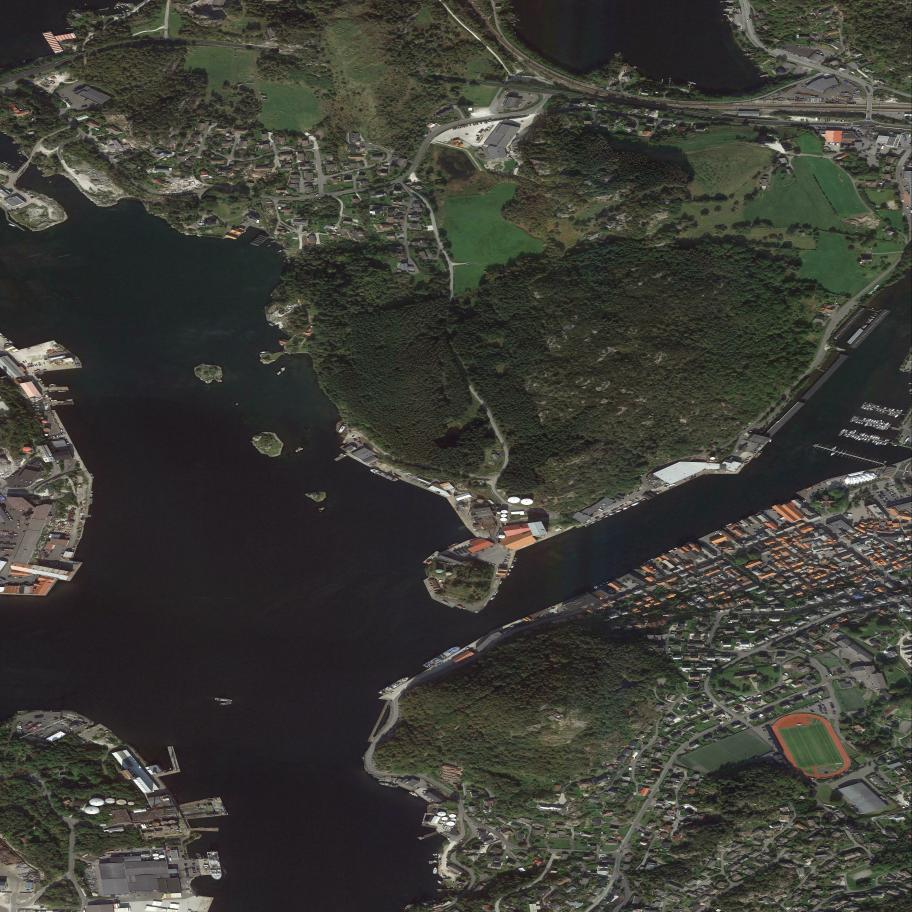large-vehicle: (510, 625, 515, 628), (598, 509, 603, 512), (829, 524, 833, 527), (738, 602, 742, 605), (466, 647, 469, 650), (749, 16, 751, 19)
ship: (423, 644, 462, 670), (378, 675, 411, 697), (207, 849, 223, 882), (369, 468, 398, 483), (379, 781, 399, 789), (753, 449, 763, 460), (408, 790, 420, 799), (338, 423, 347, 434), (447, 541, 459, 549), (215, 698, 232, 702), (219, 701, 232, 706), (630, 501, 640, 507), (622, 505, 631, 511), (437, 879, 444, 886), (490, 595, 496, 602), (608, 512, 616, 517), (831, 445, 837, 451), (830, 451, 836, 457), (884, 421, 890, 427), (898, 408, 904, 414), (8, 340, 15, 345), (596, 517, 603, 522), (8, 223, 16, 227), (436, 889, 451, 891), (880, 420, 885, 426), (878, 419, 883, 425), (879, 425, 884, 431), (876, 424, 881, 430), (864, 421, 869, 427), (872, 434, 877, 440), (894, 413, 899, 419), (875, 441, 880, 447), (842, 428, 847, 434), (838, 431, 843, 437), (855, 435, 860, 441), (852, 429, 857, 435), (869, 433, 874, 439), (615, 509, 622, 513), (725, 523, 732, 527), (32, 397, 41, 400), (867, 407, 872, 412), (861, 432, 866, 437), (874, 424, 879, 429), (875, 419, 880, 424), (849, 429, 854, 434), (887, 411, 892, 416), (674, 546, 680, 550), (668, 549, 674, 553), (590, 521, 596, 525), (584, 523, 590, 527), (603, 515, 609, 519), (640, 498, 646, 502), (30, 405, 42, 407), (433, 868, 437, 874), (276, 249, 282, 253), (863, 437, 867, 443), (4, 343, 9, 347), (4, 337, 9, 341), (513, 557, 517, 562), (598, 583, 603, 587), (868, 418, 872, 423), (875, 435, 879, 440), (882, 426, 886, 431), (873, 419, 877, 424), (861, 436, 865, 441), (890, 412, 894, 417), (878, 441, 882, 446), (866, 438, 870, 443), (880, 410, 884, 415), (858, 436, 862, 441), (846, 433, 850, 438), (260, 351, 269, 353), (891, 444, 897, 447), (695, 543, 699, 547), (647, 559, 651, 563), (66, 27, 74, 29), (723, 527, 727, 531), (58, 390, 66, 392), (49, 385, 57, 387), (33, 399, 41, 401), (871, 439, 875, 443), (849, 434, 853, 438), (878, 409, 882, 413), (877, 436, 881, 440), (865, 418, 869, 422), (867, 423, 871, 427), (870, 419, 874, 423), (891, 408, 895, 412), (851, 435, 855, 439), (686, 542, 691, 545), (279, 343, 284, 346), (101, 14, 106, 17), (575, 526, 582, 528), (37, 372, 44, 374), (66, 399, 73, 401), (36, 401, 42, 403), (496, 590, 499, 594), (606, 581, 610, 584), (633, 568, 637, 571), (642, 562, 646, 565), (661, 553, 665, 556), (339, 453, 343, 456), (243, 230, 247, 233), (1, 335, 5, 338), (54, 362, 57, 366), (235, 403, 239, 406), (635, 498, 639, 501), (636, 497, 640, 500), (511, 564, 514, 568), (758, 509, 762, 512), (602, 581, 605, 585), (593, 587, 597, 590), (44, 404, 47, 408), (33, 409, 39, 411), (121, 5, 124, 9), (118, 13, 122, 16), (49, 396, 52, 400), (499, 580, 502, 584), (867, 434, 870, 438), (884, 442, 887, 446), (874, 440, 877, 444), (844, 433, 847, 437), (885, 438, 888, 442), (889, 407, 892, 411), (863, 406, 866, 410), (863, 417, 866, 421), (867, 402, 870, 406), (834, 337, 838, 340), (862, 325, 866, 328), (893, 413, 896, 417), (845, 429, 848, 433), (869, 403, 872, 407), (884, 406, 887, 410), (769, 439, 772, 443), (693, 82, 697, 85), (851, 419, 854, 423), (885, 427, 888, 431), (872, 424, 875, 428), (854, 435, 857, 439), (38, 373, 44, 375), (69, 24, 74, 26), (30, 403, 35, 405), (102, 16, 107, 18), (870, 316, 875, 318), (866, 322, 871, 324), (650, 558, 653, 561), (50, 361, 53, 364), (632, 500, 635, 503), (507, 573, 510, 576), (596, 585, 599, 588), (494, 593, 497, 596), (394, 468, 397, 471), (3, 161, 6, 164), (5, 162, 8, 165), (169, 767, 172, 770), (90, 473, 93, 476), (32, 401, 35, 404), (124, 4, 127, 7), (23, 60, 26, 63), (34, 375, 37, 378), (40, 380, 43, 383), (876, 409, 879, 412), (856, 416, 859, 419), (887, 439, 890, 442), (865, 434, 868, 437), (861, 406, 864, 409), (866, 407, 869, 410), (880, 437, 883, 440), (880, 309, 883, 312), (871, 307, 874, 310), (896, 409, 899, 412), (874, 405, 877, 408), (855, 421, 858, 424), (858, 421, 861, 424), (12, 142, 16, 144), (17, 151, 21, 153), (7, 164, 11, 166), (429, 861, 437, 862), (861, 327, 865, 329), (862, 326, 866, 328), (742, 49, 746, 51), (517, 19, 521, 21), (687, 81, 691, 83), (48, 391, 55, 392), (49, 384, 56, 385), (615, 578, 618, 580), (268, 245, 271, 247), (39, 378, 41, 381), (594, 586, 597, 588), (509, 569, 511, 572), (600, 583, 603, 585), (117, 6, 119, 9), (164, 769, 167, 771), (91, 490, 93, 493), (91, 494, 93, 497), (51, 400, 57, 401), (122, 11, 125, 13), (35, 372, 37, 375), (32, 380, 34, 383), (872, 404, 874, 407), (854, 416, 856, 419), (882, 442, 884, 445), (883, 423, 886, 425), (888, 424, 891, 426), (865, 402, 867, 405), (870, 424, 872, 427), (877, 405, 879, 408), (860, 433, 862, 436), (884, 460, 886, 463), (634, 66, 636, 69), (744, 50, 747, 52), (743, 54, 746, 56), (669, 77, 671, 80), (861, 422, 863, 425), (92, 476, 94, 479), (437, 891, 442, 892), (868, 319, 873, 320), (43, 384, 45, 386), (44, 385, 46, 387), (17, 151, 21, 152), (18, 153, 22, 154), (429, 863, 433, 864), (126, 10, 128, 12), (127, 9, 129, 11), (128, 9, 130, 11), (123, 5, 125, 7), (883, 412, 885, 414), (867, 321, 871, 322), (873, 315, 877, 316), (908, 383, 912, 384), (909, 372, 911, 374), (837, 352, 839, 354), (863, 325, 867, 326), (871, 409, 873, 411), (854, 420, 856, 422), (853, 420, 855, 422), (672, 82, 674, 84), (514, 32, 516, 34), (909, 391, 912, 392), (875, 314, 878, 315), (869, 320, 872, 321), (20, 155, 22, 156), (894, 410, 895, 412)
small-vehicle: (343, 454, 347, 457), (352, 434, 355, 438), (632, 499, 636, 502), (629, 500, 633, 503), (31, 196, 35, 199), (30, 195, 34, 198), (84, 98, 88, 101), (315, 194, 319, 197), (479, 130, 483, 133), (875, 161, 879, 164), (830, 611, 835, 613), (753, 531, 756, 534), (812, 492, 815, 495), (802, 500, 805, 503), (823, 482, 826, 485), (784, 518, 787, 521), (778, 520, 781, 523), (780, 519, 783, 522), (503, 561, 506, 564), (595, 516, 598, 519), (604, 512, 607, 515), (747, 533, 750, 536), (767, 516, 770, 519), (766, 515, 769, 518), (621, 582, 624, 585), (770, 518, 773, 521), (668, 803, 671, 806), (625, 502, 628, 505), (619, 505, 622, 508), (615, 507, 618, 510), (611, 509, 614, 512), (743, 530, 746, 533), (814, 525, 817, 528), (747, 584, 750, 587), (880, 491, 883, 494), (797, 606, 800, 609), (535, 617, 538, 620), (563, 608, 566, 611), (552, 612, 555, 615), (539, 615, 542, 618), (533, 618, 536, 621), (547, 608, 550, 611), (866, 154, 869, 157), (422, 792, 425, 795), (19, 108, 22, 111), (187, 859, 190, 862), (26, 464, 29, 467), (6, 477, 9, 480), (108, 852, 111, 855), (119, 854, 122, 857), (27, 463, 30, 466), (25, 480, 28, 483), (455, 126, 458, 129), (459, 126, 462, 129), (36, 67, 39, 70), (56, 435, 59, 438), (51, 436, 54, 439), (454, 127, 457, 130), (98, 152, 101, 155), (24, 360, 27, 363), (30, 362, 33, 365), (391, 155, 394, 158), (72, 90, 75, 93), (66, 98, 69, 101), (817, 511, 820, 514), (625, 586, 628, 589), (796, 54, 799, 57), (826, 75, 829, 78), (802, 56, 805, 59), (466, 124, 469, 127), (751, 442, 754, 445), (861, 151, 864, 154), (869, 147, 872, 150), (859, 151, 862, 154), (872, 132, 875, 135), (886, 133, 889, 136), (902, 151, 905, 154), (888, 134, 891, 137), (883, 133, 886, 136), (826, 126, 829, 129), (530, 93, 533, 96), (828, 557, 831, 560), (832, 638, 835, 641), (802, 708, 805, 711), (818, 700, 821, 703), (816, 700, 819, 703), (813, 701, 816, 704), (804, 707, 807, 710), (812, 703, 815, 706), (876, 491, 879, 494), (631, 581, 634, 584), (893, 580, 896, 583), (890, 489, 893, 492), (824, 697, 827, 700), (707, 546, 710, 549), (782, 824, 785, 827), (894, 497, 897, 500), (603, 513, 606, 516), (710, 880, 713, 883), (870, 565, 873, 568), (701, 885, 704, 888), (770, 577, 773, 580), (481, 550, 484, 553), (825, 675, 828, 678), (896, 783, 899, 786), (906, 805, 909, 808), (85, 722, 88, 725), (857, 780, 860, 783), (490, 545, 493, 548), (756, 447, 760, 449), (757, 446, 761, 448), (890, 494, 894, 496), (886, 489, 890, 491), (27, 891, 31, 893), (41, 470, 45, 472), (37, 465, 41, 467), (184, 863, 188, 865), (30, 888, 34, 890), (55, 62, 59, 64), (115, 150, 119, 152), (61, 429, 63, 433), (123, 149, 127, 151), (66, 100, 70, 102), (69, 103, 73, 105), (481, 128, 485, 130), (478, 132, 482, 134), (844, 123, 848, 125), (857, 136, 861, 138), (809, 62, 813, 64), (874, 124, 878, 126), (878, 145, 882, 147), (876, 151, 880, 153), (768, 578, 772, 580), (822, 706, 826, 708), (735, 611, 739, 613), (823, 709, 827, 711), (811, 711, 815, 713), (878, 495, 882, 497), (823, 708, 827, 710), (636, 490, 640, 492), (857, 575, 861, 577), (880, 498, 884, 500), (888, 492, 892, 494), (906, 494, 908, 498), (353, 438, 357, 440), (505, 557, 508, 559), (755, 532, 758, 534), (773, 510, 776, 512), (804, 499, 806, 502), (819, 484, 821, 487), (777, 518, 780, 520), (746, 446, 748, 449), (504, 559, 507, 561), (779, 515, 782, 517), (755, 449, 758, 451), (597, 516, 600, 518), (777, 513, 780, 515), (749, 456, 752, 458), (747, 525, 750, 527), (714, 532, 716, 535), (636, 584, 639, 586), (674, 626, 677, 628), (825, 713, 828, 715), (356, 440, 359, 442), (627, 494, 630, 496), (622, 504, 625, 506), (764, 513, 767, 515), (778, 514, 781, 516), (642, 780, 644, 783), (617, 507, 620, 509), (769, 518, 772, 520), (499, 451, 502, 453), (740, 529, 743, 531), (712, 544, 715, 546), (771, 557, 773, 560), (760, 526, 763, 528), (880, 491, 883, 493), (869, 153, 871, 156), (761, 561, 764, 563), (815, 509, 817, 512), (834, 537, 837, 539), (832, 535, 834, 538), (538, 616, 540, 619), (839, 636, 842, 638), (764, 561, 766, 564), (883, 495, 886, 497), (881, 493, 884, 495), (892, 496, 895, 498), (536, 617, 539, 619), (611, 503, 614, 505), (548, 613, 550, 616), (556, 610, 559, 612), (557, 800, 559, 803), (594, 518, 597, 520), (489, 562, 491, 565), (614, 508, 617, 510), (462, 650, 464, 653), (532, 619, 535, 621), (531, 619, 533, 622), (549, 608, 551, 611), (610, 504, 613, 506), (553, 607, 556, 609), (608, 505, 611, 507), (185, 869, 188, 871), (193, 859, 195, 862), (454, 662, 457, 664), (450, 664, 453, 666), (391, 691, 393, 694), (173, 873, 176, 875), (186, 873, 189, 875), (185, 859, 188, 861), (122, 854, 124, 857), (181, 855, 184, 857), (186, 871, 189, 873), (21, 478, 23, 481), (4, 479, 7, 481), (15, 576, 17, 579), (21, 576, 23, 579), (2, 477, 4, 480), (11, 474, 14, 476), (13, 473, 16, 475), (15, 471, 18, 473), (18, 469, 21, 471), (29, 577, 31, 580), (84, 722, 87, 724), (6, 580, 9, 582), (121, 849, 123, 852), (11, 475, 14, 477), (29, 481, 32, 483), (37, 380, 39, 383), (463, 125, 465, 128), (465, 125, 467, 128), (430, 130, 432, 133), (13, 209, 16, 211), (66, 443, 69, 445), (16, 485, 18, 488), (67, 445, 70, 447), (452, 128, 455, 130), (58, 435, 61, 437), (411, 196, 413, 199), (34, 364, 36, 367), (362, 146, 365, 148), (68, 102, 71, 104), (61, 95, 64, 97), (65, 98, 68, 100), (67, 101, 70, 103), (612, 502, 615, 504), (169, 170, 171, 173), (191, 176, 193, 179), (32, 364, 34, 367), (395, 156, 397, 159), (27, 364, 30, 366), (27, 365, 29, 368), (414, 180, 416, 183), (861, 135, 864, 137), (905, 163, 908, 165), (743, 428, 746, 430), (485, 128, 488, 130), (477, 138, 480, 140), (476, 139, 479, 141), (481, 129, 484, 131), (904, 165, 907, 167), (908, 157, 911, 159), (824, 147, 827, 149), (824, 149, 827, 151), (859, 126, 862, 128), (857, 135, 860, 137), (857, 129, 860, 131), (858, 131, 861, 133), (859, 132, 862, 134), (908, 158, 911, 160), (690, 126, 692, 129), (798, 54, 800, 57), (793, 53, 795, 56), (906, 161, 909, 163), (624, 586, 627, 588), (473, 123, 475, 126), (822, 705, 825, 707), (486, 121, 488, 124), (799, 55, 801, 58), (798, 45, 800, 48), (747, 19, 749, 22), (802, 86, 804, 89), (754, 420, 757, 422), (746, 426, 749, 428), (753, 33, 755, 36), (784, 47, 786, 50), (782, 47, 784, 50), (895, 134, 898, 136), (827, 119, 829, 122), (825, 119, 827, 122), (818, 118, 820, 121), (829, 100, 831, 103), (829, 119, 831, 122), (854, 93, 856, 96), (829, 54, 831, 57), (910, 360, 912, 363), (865, 155, 867, 158), (876, 132, 878, 135), (864, 150, 866, 153), (877, 148, 880, 150), (891, 134, 894, 136), (898, 156, 901, 158), (903, 150, 906, 152), (901, 153, 904, 155), (900, 154, 903, 156), (828, 142, 830, 145), (837, 143, 839, 146), (830, 142, 832, 145), (831, 127, 834, 129), (823, 126, 825, 129), (821, 127, 824, 129), (819, 126, 821, 129), (817, 127, 819, 130), (521, 102, 524, 104), (522, 100, 525, 102), (767, 579, 770, 581), (833, 710, 836, 712), (831, 707, 834, 709), (831, 706, 834, 708), (831, 705, 834, 707), (830, 702, 833, 704), (820, 600, 823, 602), (823, 698, 825, 701), (815, 701, 817, 704), (820, 711, 823, 713), (810, 704, 813, 706), (809, 704, 811, 707), (738, 523, 741, 525), (823, 707, 826, 709), (823, 554, 826, 556), (820, 710, 823, 712), (811, 494, 813, 497), (883, 500, 886, 502), (819, 708, 822, 710), (878, 494, 881, 496), (684, 560, 687, 562), (683, 559, 686, 561), (659, 563, 662, 565), (849, 572, 852, 574), (623, 585, 626, 587), (880, 497, 883, 499), (879, 496, 882, 498), (822, 704, 825, 706), (603, 887, 606, 889), (896, 800, 899, 802), (763, 729, 766, 731), (762, 726, 765, 728), (760, 707, 763, 709), (805, 882, 808, 884), (892, 581, 894, 584), (899, 501, 901, 504), (894, 502, 896, 505), (891, 503, 893, 506), (887, 504, 889, 507), (883, 505, 885, 508), (884, 497, 887, 499), (869, 494, 872, 496), (889, 493, 892, 495), (896, 487, 899, 489), (466, 133, 469, 135), (624, 70, 626, 73), (607, 86, 609, 89), (892, 492, 895, 494), (828, 696, 830, 699), (626, 70, 628, 73), (712, 116, 715, 118), (709, 548, 712, 550), (839, 567, 842, 569), (842, 566, 845, 568), (829, 552, 831, 555), (701, 905, 703, 908), (729, 847, 731, 850), (900, 496, 902, 499), (902, 496, 904, 499), (826, 697, 829, 699), (776, 596, 779, 598), (900, 888, 903, 890), (878, 774, 880, 777), (894, 799, 897, 801), (898, 802, 901, 804), (354, 439, 357, 441), (897, 497, 899, 500), (902, 194, 904, 196), (632, 820, 634, 822), (600, 849, 602, 851), (499, 454, 501, 456), (746, 526, 748, 528), (620, 845, 622, 847), (601, 856, 605, 857), (647, 797, 649, 799), (766, 515, 768, 517), (625, 581, 627, 583), (717, 547, 719, 549), (711, 543, 713, 545), (598, 607, 600, 609), (662, 566, 664, 568), (619, 590, 621, 592), (30, 365, 32, 367), (719, 549, 721, 551), (765, 514, 767, 516), (763, 512, 765, 514), (613, 509, 615, 511), (664, 707, 666, 709), (621, 505, 623, 507), (677, 588, 679, 590), (608, 883, 610, 885), (710, 542, 712, 544), (772, 558, 774, 560), (774, 559, 776, 561), (770, 557, 772, 559), (894, 493, 896, 495), (757, 583, 759, 585), (798, 509, 800, 511), (543, 615, 545, 617), (769, 556, 771, 558), (574, 602, 576, 604), (560, 614, 564, 615), (550, 613, 552, 615), (492, 564, 494, 566), (490, 563, 492, 565), (575, 600, 577, 602), (606, 512, 608, 514), (550, 608, 552, 610), (522, 887, 524, 889), (543, 862, 545, 864), (546, 614, 548, 616), (552, 607, 554, 609), (485, 561, 487, 563), (487, 562, 489, 564), (494, 564, 496, 566), (267, 173, 271, 174), (425, 795, 427, 797), (446, 861, 448, 863), (177, 868, 179, 870), (184, 858, 186, 860), (184, 867, 188, 868), (183, 857, 185, 859), (88, 864, 92, 865), (6, 478, 8, 480), (19, 468, 21, 470), (440, 863, 442, 865), (18, 485, 20, 487), (172, 875, 176, 876), (14, 485, 16, 487), (310, 163, 314, 164), (458, 127, 460, 129), (461, 126, 463, 128), (26, 192, 28, 194), (67, 459, 69, 461), (312, 142, 314, 144), (53, 436, 55, 438), (60, 434, 62, 436), (61, 433, 63, 435), (410, 211, 412, 213), (23, 361, 25, 363), (64, 97, 66, 99), (197, 873, 201, 874), (36, 364, 38, 366), (412, 165, 414, 167), (197, 868, 199, 870), (29, 363, 31, 365), (910, 487, 912, 489), (886, 488, 888, 490), (477, 134, 479, 136), (523, 71, 525, 73), (796, 45, 798, 47), (834, 88, 836, 90), (790, 53, 792, 55), (788, 52, 790, 54), (801, 56, 803, 58), (469, 124, 471, 126), (787, 68, 789, 70), (776, 48, 778, 50), (827, 90, 829, 92), (768, 420, 770, 422), (761, 413, 763, 415), (752, 422, 754, 424), (781, 47, 783, 49), (830, 88, 832, 90), (29, 366, 31, 368), (826, 99, 828, 101), (867, 111, 869, 113), (853, 96, 855, 98), (864, 156, 866, 158), (861, 157, 863, 159), (855, 153, 857, 155), (858, 152, 860, 154), (907, 207, 909, 209), (865, 150, 867, 152), (867, 149, 869, 151), (868, 148, 870, 150), (871, 144, 873, 146), (895, 155, 897, 157), (876, 159, 880, 160), (825, 142, 827, 144), (839, 120, 841, 122), (840, 16, 842, 18), (747, 576, 749, 578), (833, 713, 837, 714), (806, 706, 808, 708), (821, 714, 825, 715), (819, 700, 821, 702), (886, 499, 888, 501), (726, 593, 728, 595), (851, 828, 853, 830), (849, 826, 851, 828), (886, 505, 888, 507), (897, 502, 899, 504), (892, 503, 894, 505), (889, 504, 891, 506), (900, 501, 902, 503), (475, 123, 477, 125), (727, 847, 729, 849), (477, 123, 479, 125), (484, 122, 486, 124), (873, 498, 875, 500), (622, 71, 624, 73), (634, 582, 636, 584), (742, 650, 746, 651), (857, 555, 859, 557), (715, 552, 717, 554), (880, 572, 882, 574), (731, 557, 733, 559), (821, 699, 823, 701), (756, 530, 759, 531), (609, 816, 612, 817), (747, 458, 750, 459), (307, 195, 310, 196), (725, 570, 728, 571), (821, 489, 824, 490), (545, 614, 546, 617), (817, 489, 820, 490), (609, 505, 612, 506), (357, 441, 360, 442), (424, 791, 427, 792), (27, 889, 30, 890), (56, 464, 59, 465), (192, 864, 195, 865), (192, 863, 195, 864), (186, 875, 189, 876), (186, 873, 189, 874), (185, 866, 188, 867), (180, 851, 183, 852), (204, 861, 207, 862), (118, 895, 121, 896), (427, 797, 430, 798), (2, 551, 5, 552), (101, 774, 104, 775), (99, 857, 102, 858), (124, 895, 127, 896), (184, 865, 187, 866), (193, 871, 196, 872), (192, 866, 195, 867), (63, 437, 66, 438), (63, 438, 66, 439), (197, 872, 200, 873), (196, 870, 199, 871), (193, 872, 196, 873), (906, 185, 909, 186), (477, 137, 480, 138), (487, 127, 490, 128), (824, 123, 827, 124), (828, 148, 831, 149), (828, 150, 831, 151), (879, 125, 882, 126), (860, 134, 863, 135), (825, 151, 828, 152), (669, 110, 672, 111), (746, 9, 747, 12), (828, 100, 829, 103), (871, 95, 872, 98), (906, 189, 909, 190), (875, 132, 876, 135), (909, 213, 910, 216), (906, 191, 909, 192), (906, 186, 909, 187), (835, 8, 836, 11), (876, 157, 879, 158), (877, 150, 880, 151), (876, 154, 879, 155), (894, 149, 897, 150), (833, 712, 836, 713), (830, 704, 833, 705), (821, 713, 824, 714), (833, 714, 836, 715), (884, 502, 887, 503), (819, 707, 822, 708), (819, 706, 822, 707), (810, 710, 813, 711), (497, 452, 500, 453), (819, 709, 822, 710), (495, 858, 498, 859), (496, 859, 499, 860), (818, 705, 821, 706), (851, 826, 854, 827), (673, 120, 676, 121), (896, 580, 899, 581), (872, 580, 875, 581), (502, 563, 505, 564), (657, 839, 658, 841), (825, 712, 827, 713), (676, 817, 677, 819), (572, 602, 574, 603), (502, 564, 504, 565), (393, 780, 394, 782), (178, 872, 179, 874), (169, 863, 171, 864), (23, 105, 25, 106), (187, 876, 189, 877), (391, 780, 392, 782), (186, 870, 188, 871), (424, 795, 426, 796), (94, 127, 95, 129), (19, 576, 20, 578), (193, 870, 195, 871), (131, 149, 133, 150), (319, 198, 321, 199), (357, 163, 358, 165), (360, 443, 362, 444), (350, 431, 351, 433), (907, 184, 909, 185), (467, 264, 469, 265), (846, 47, 847, 49), (755, 15, 756, 17), (788, 154, 790, 155), (898, 113, 900, 114), (843, 120, 844, 122), (824, 120, 825, 122), (803, 119, 804, 121), (832, 101, 833, 103), (801, 119, 802, 121), (836, 120, 837, 122), (835, 143, 836, 145), (833, 143, 834, 145), (841, 120, 842, 122), (844, 120, 845, 122), (838, 120, 839, 122), (529, 93, 530, 95), (854, 828, 856, 829), (761, 628, 762, 630), (481, 122, 482, 124), (695, 883, 697, 884), (178, 871, 179, 872), (824, 489, 828, 489), (192, 867, 195, 867)
storage-tank: (89, 798, 105, 806), (85, 806, 99, 814), (522, 498, 533, 505), (508, 497, 520, 503), (105, 798, 115, 804), (116, 799, 126, 805), (22, 446, 32, 451), (169, 820, 177, 825), (438, 811, 446, 816), (446, 822, 455, 826), (152, 822, 160, 826), (43, 428, 51, 432), (436, 569, 443, 573), (163, 826, 170, 830), (161, 821, 168, 825), (171, 825, 178, 829), (449, 814, 456, 818), (477, 499, 484, 503), (501, 510, 508, 514), (498, 535, 505, 539), (153, 853, 159, 857), (446, 572, 452, 576), (442, 817, 448, 821), (153, 857, 160, 860), (500, 518, 507, 521), (451, 818, 456, 822), (128, 802, 134, 805), (159, 855, 165, 858), (42, 420, 48, 423), (38, 416, 44, 419), (501, 514, 507, 517), (710, 457, 715, 460), (497, 511, 501, 514), (37, 413, 42, 415), (28, 452, 32, 454), (45, 434, 49, 436)
